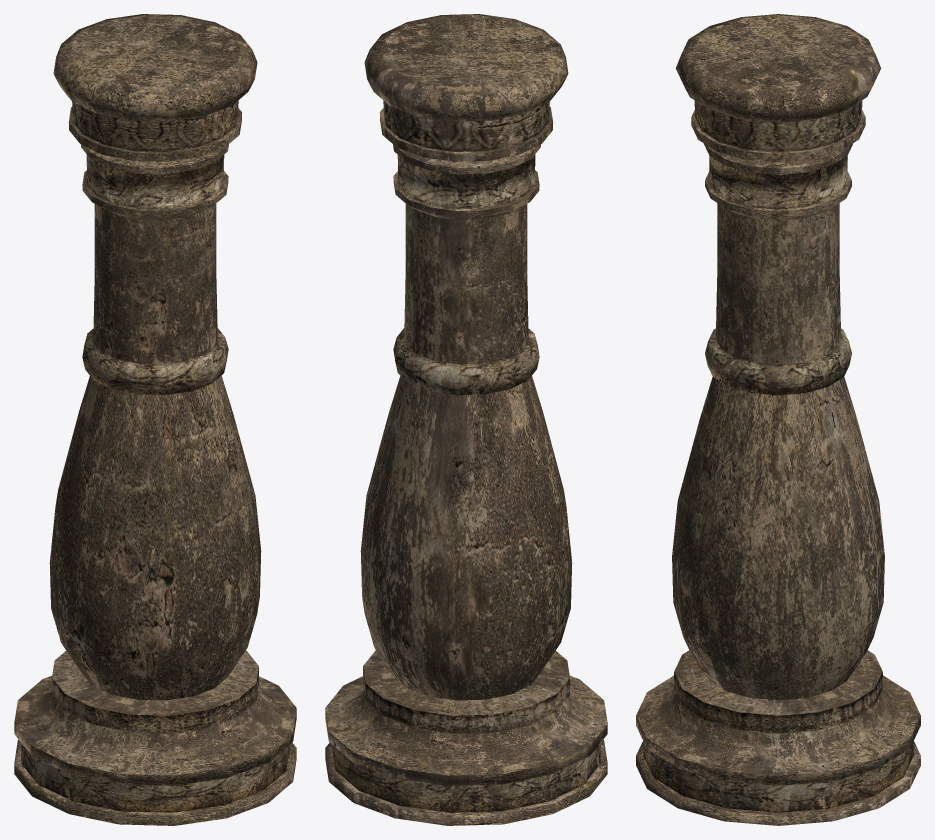
The model's file is materials_5_pillar_short_5.fbx.
3 views of the same model, side by side, from view 1: azimuth 30°, elevation 25°; view 2: azimuth 150°, elevation 25°; view 3: azimuth 270°, elevation 25° (orthographic).
Visible parts, largest first — view 1: materials_5_pillar_short_5; view 2: materials_5_pillar_short_5; view 3: materials_5_pillar_short_5.
Boxes of the visible parts, left/top/right/bottom form: materials_5_pillar_short_5: left=14, top=14, right=296, bottom=825; materials_5_pillar_short_5: left=325, top=14, right=607, bottom=825; materials_5_pillar_short_5: left=636, top=14, right=920, bottom=825.
Size of the model in its own units: 60.79 by 168 by 60.79.
